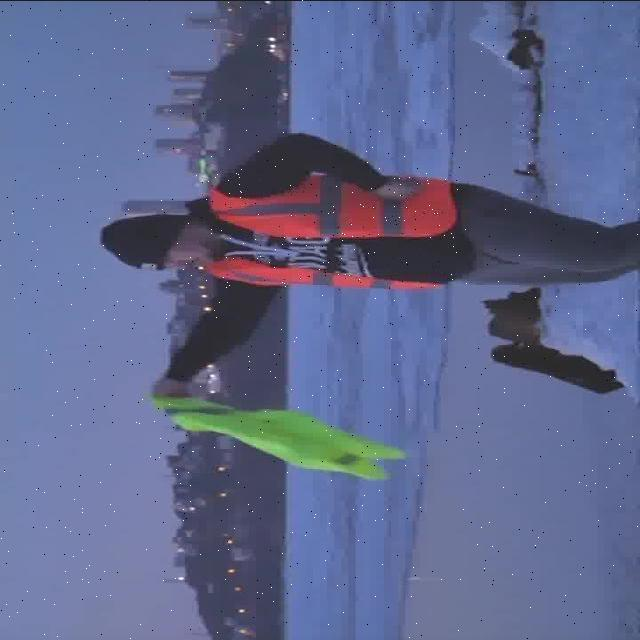Vest: (202, 172, 458, 290)
